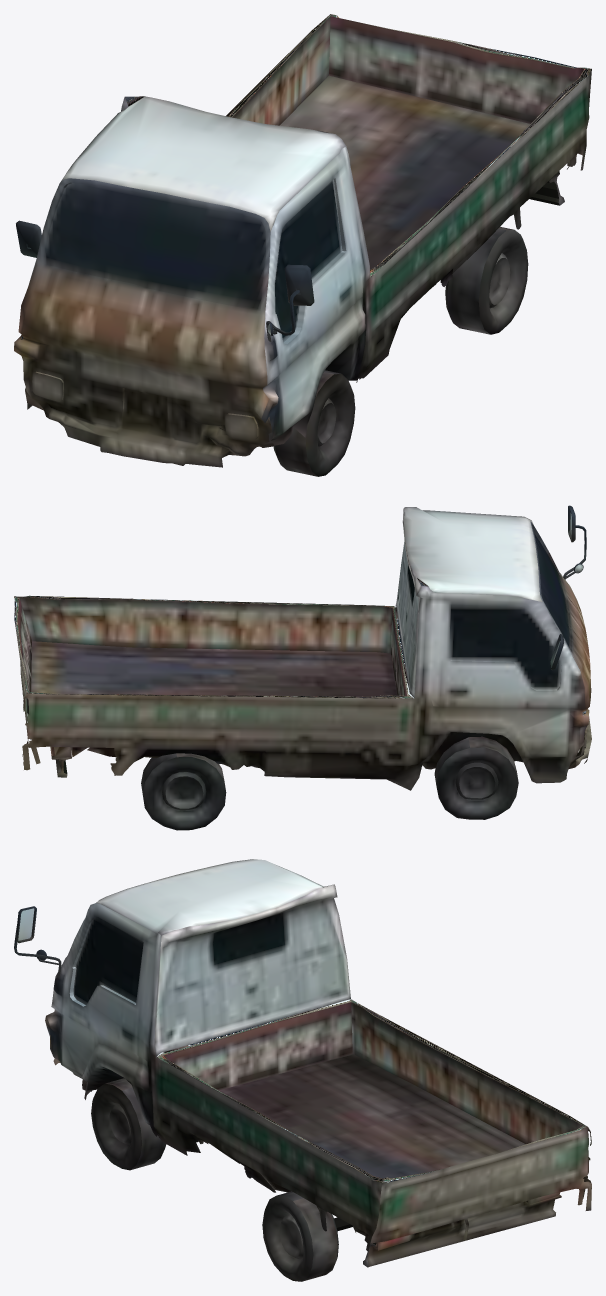
Rendered from truck.glb.
The picture shows the model from 3 angles, top to bottom: view 1: azimuth 30°, elevation 25°; view 2: azimuth 150°, elevation 25°; view 3: azimuth 270°, elevation 25°; orthographic projection. The views are drawn at different scales.
Visible parts, largest first — view 1: RTRUCK_BODY, RTRUCK_WHEEL_BACK_L, RTRUCK_WHEEL_FRONT_L; view 2: RTRUCK_BODY, RTRUCK_WHEEL_FRONT_R, RTRUCK_WHEEL_BACK_R; view 3: RTRUCK_BODY, RTRUCK_WHEEL_BACK_L, RTRUCK_WHEEL_FRONT_L.
Part boxes in pixels (bbox=[...]): RTRUCK_BODY: bbox=[14, 14, 591, 467]; RTRUCK_WHEEL_BACK_L: bbox=[445, 226, 528, 334]; RTRUCK_WHEEL_FRONT_L: bbox=[273, 370, 355, 476]; RTRUCK_BODY: bbox=[14, 505, 591, 790]; RTRUCK_WHEEL_FRONT_R: bbox=[434, 736, 518, 819]; RTRUCK_WHEEL_BACK_R: bbox=[141, 753, 226, 830]; RTRUCK_BODY: bbox=[14, 859, 591, 1267]; RTRUCK_WHEEL_BACK_L: bbox=[262, 1191, 338, 1281]; RTRUCK_WHEEL_FRONT_L: bbox=[91, 1078, 166, 1170].
Bounding box in the file's own units: 4.59 × 2.01 × 4.16.
Materials: 1 (1 with a texture image).
